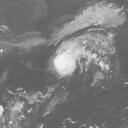cyclone: (51, 34, 114, 79)
